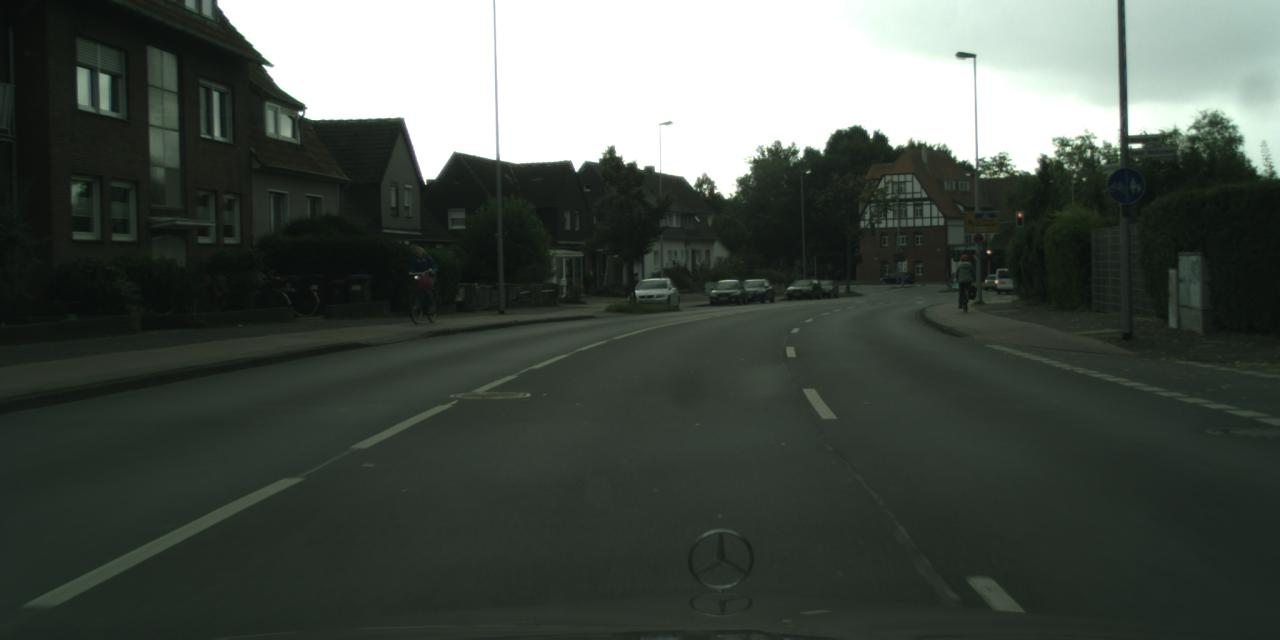ped: (409, 247, 435, 312), (954, 254, 974, 304)
